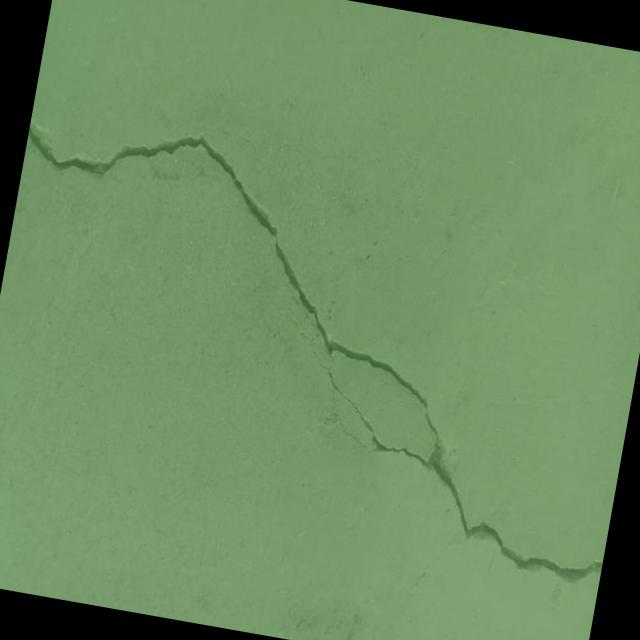crack: (0, 94, 640, 627)
